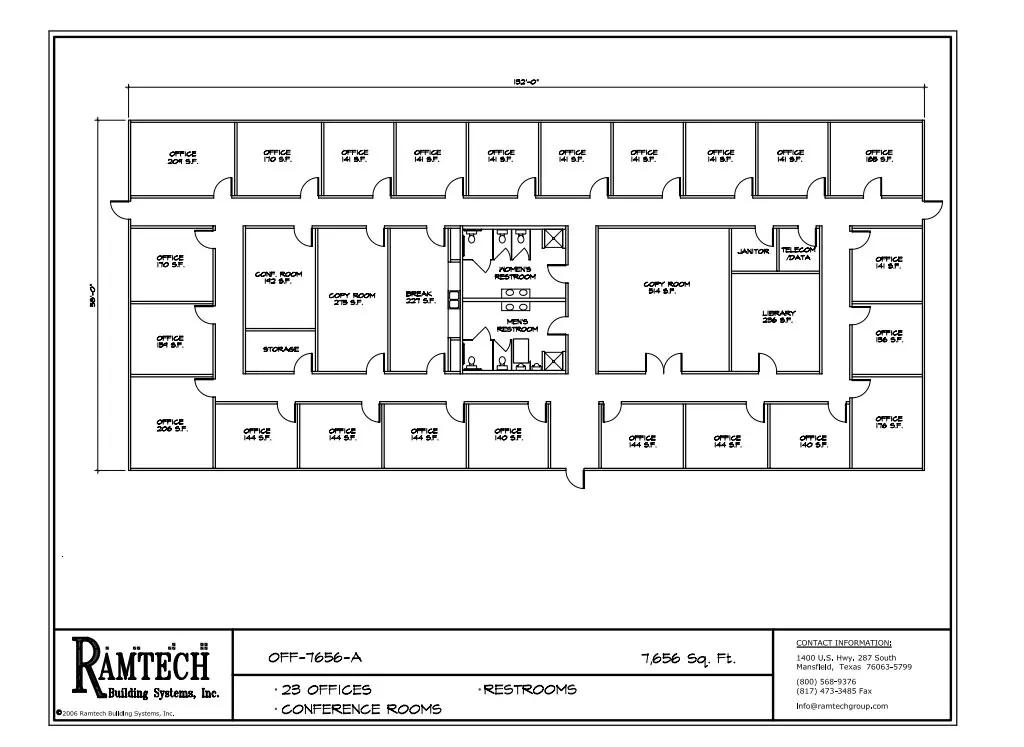room: (596, 226, 729, 372), (315, 227, 389, 373), (729, 271, 822, 373), (389, 227, 448, 372), (130, 121, 236, 196), (130, 375, 214, 469), (462, 298, 567, 372), (461, 227, 567, 298), (244, 227, 316, 330), (829, 121, 924, 197), (851, 375, 924, 469), (235, 121, 323, 198), (129, 226, 214, 303), (129, 302, 214, 376), (684, 402, 769, 469), (214, 402, 299, 469), (600, 402, 684, 469), (383, 403, 468, 469), (467, 402, 550, 469), (467, 122, 541, 197), (539, 122, 613, 197), (322, 121, 395, 197), (394, 121, 467, 197), (612, 122, 685, 198), (684, 121, 757, 197), (850, 227, 923, 303), (299, 403, 383, 469), (769, 403, 851, 469), (850, 303, 923, 376), (757, 122, 829, 196), (245, 330, 317, 373), (730, 227, 778, 272), (778, 227, 821, 272)
